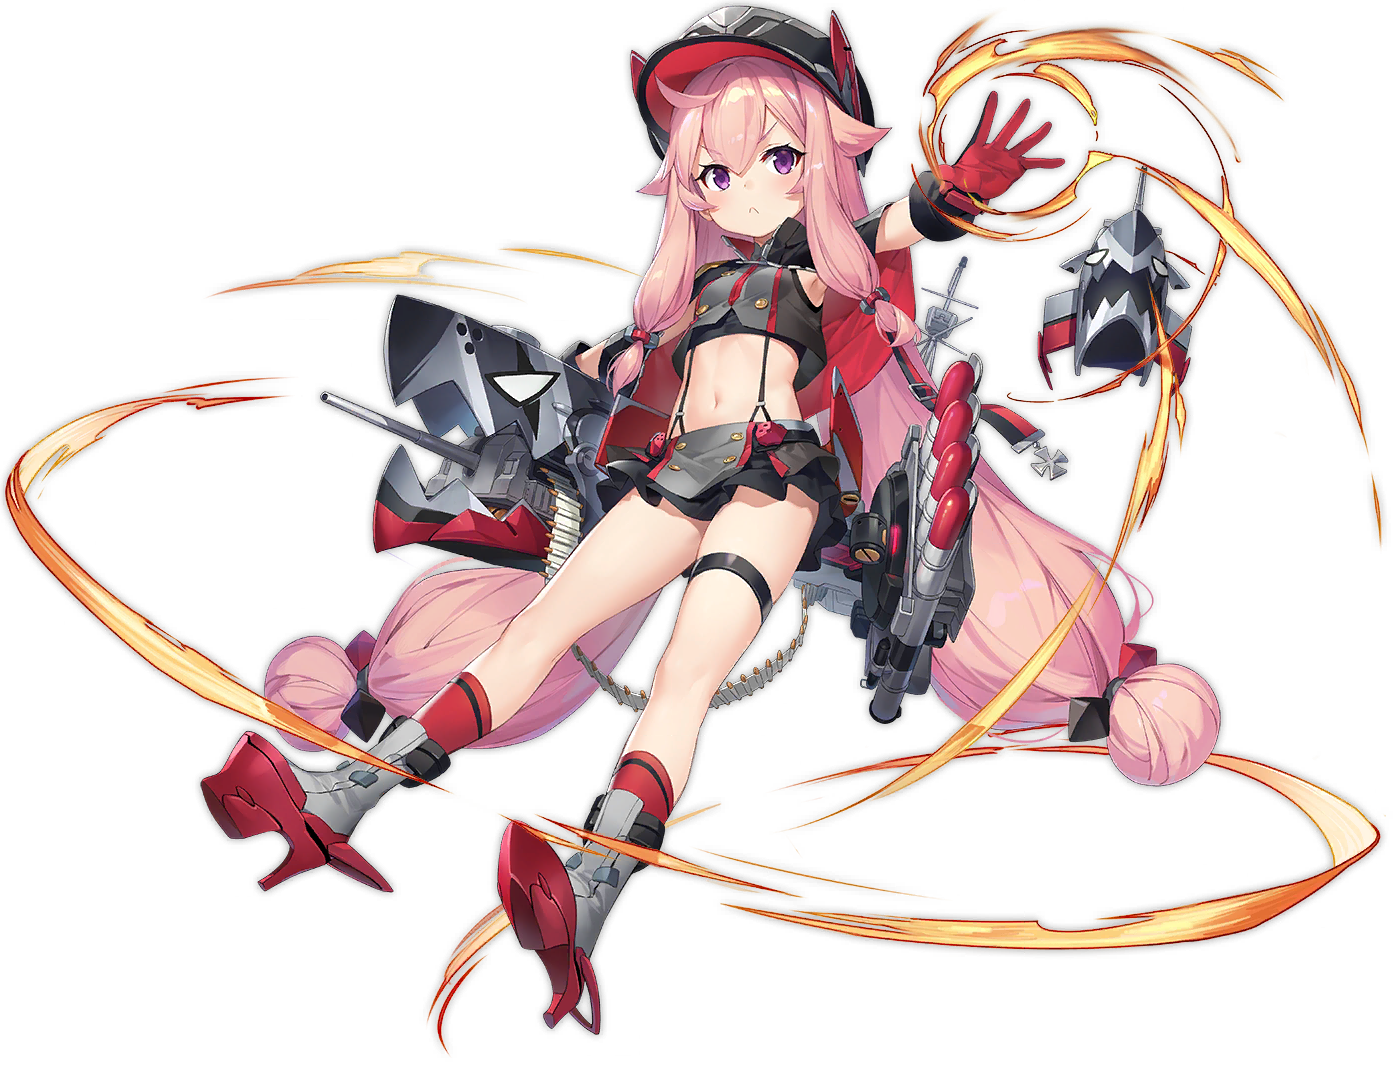person: (431, 1, 1067, 882)
